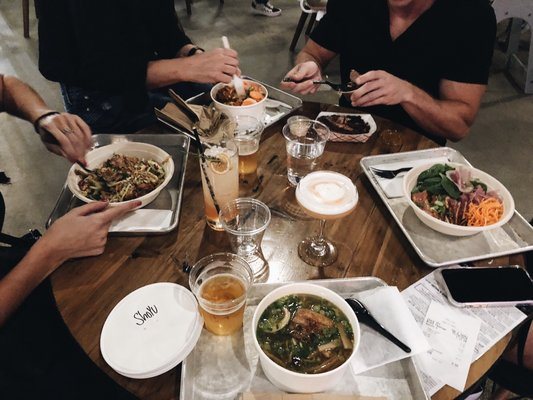pizza: (187, 252, 252, 335), (196, 135, 240, 230), (282, 116, 330, 186), (232, 119, 262, 197)
sandwich: (345, 297, 413, 355)
sushi: (253, 283, 361, 394), (402, 160, 517, 238), (67, 139, 173, 217), (210, 77, 268, 132)
